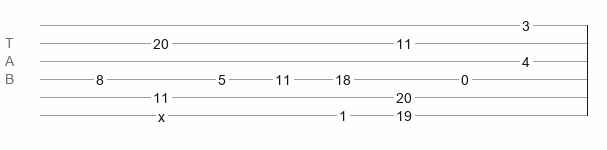0: (461, 72, 469, 82)
1: (339, 108, 347, 118)
11: (153, 90, 169, 100), (275, 72, 291, 82), (396, 36, 412, 46)
18: (335, 72, 351, 82)
19: (396, 108, 412, 118)
20: (153, 36, 169, 46), (396, 90, 412, 100)
3: (522, 18, 530, 28)
4: (522, 54, 530, 64)
5: (218, 72, 226, 82)
8: (96, 72, 104, 82)
x: (158, 109, 165, 117)
